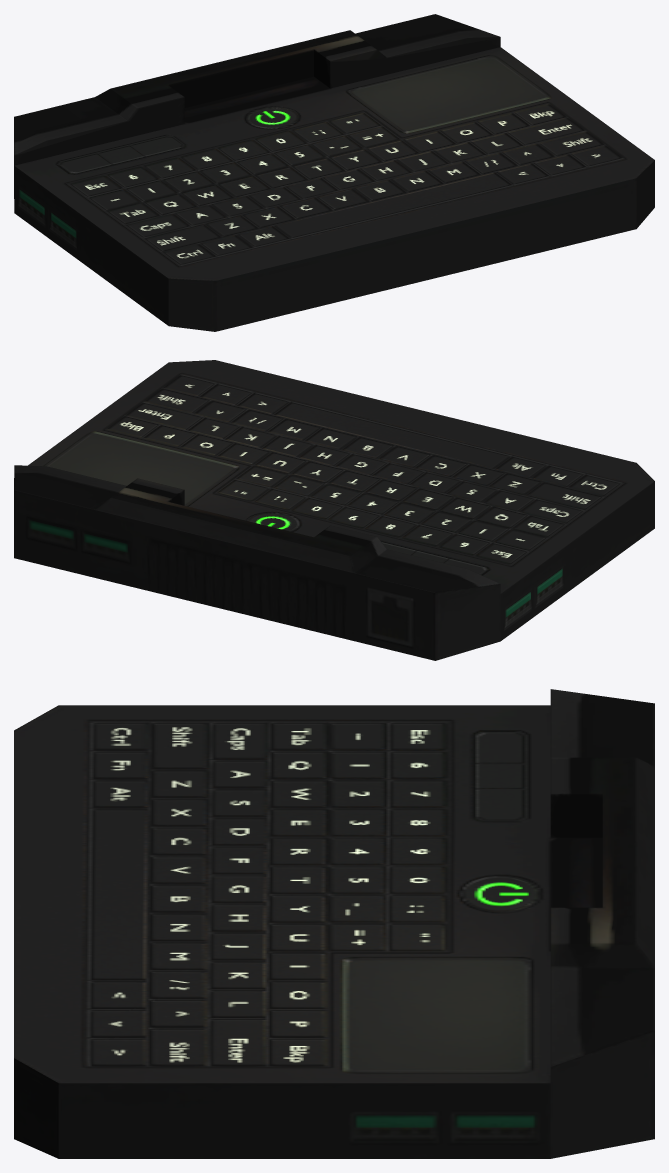
Rendered from pda_body.gltf.
The picture shows the model from 3 angles, top to bottom: view 1: azimuth 30°, elevation 25°; view 2: azimuth 150°, elevation 25°; view 3: azimuth 270°, elevation 25°; orthographic projection. The views are drawn at different scales.
Visible parts, largest first — view 1: body; view 2: body; view 3: body.
Part boxes in pixels (bbox=[...]): body: bbox=[14, 14, 654, 331]; body: bbox=[14, 360, 654, 660]; body: bbox=[14, 689, 654, 1158].
Bounding box in the file's own units: 5.15 × 0.789 × 3.69.
1 material, 1 textured.
